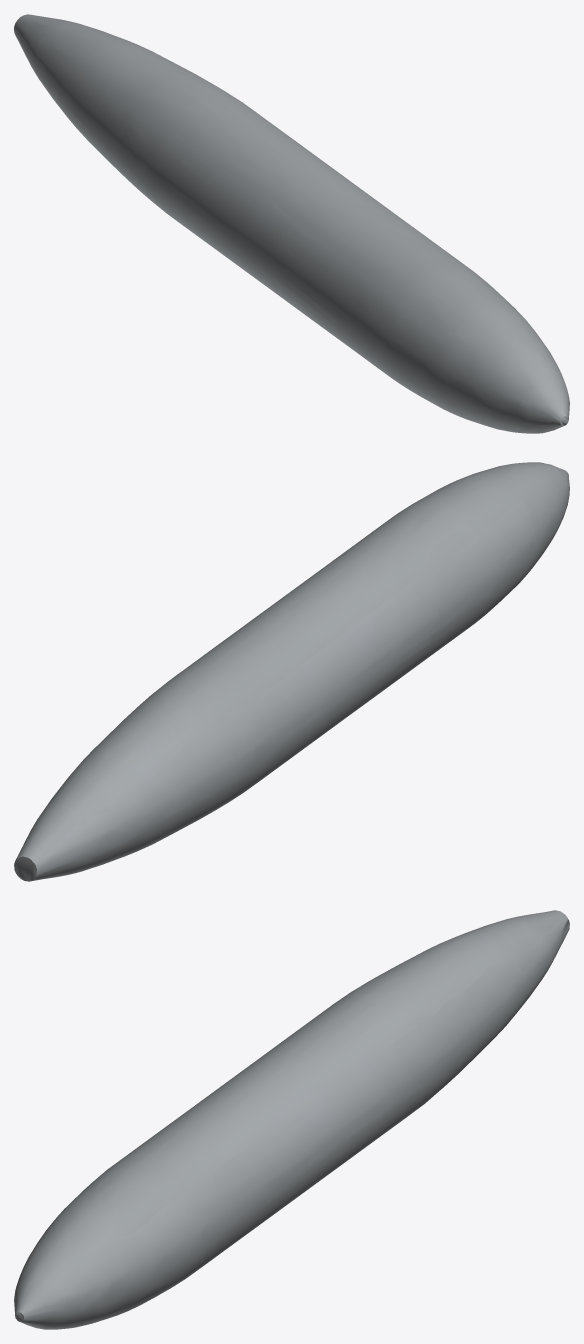
File: rpl751.glb
3 renders of one model, top to bottom at view 1: azimuth 30°, elevation 25°; view 2: azimuth 150°, elevation 25°; view 3: azimuth 330°, elevation 25°, orthographic.
Parts seen in each view (by area): view 1: airframe; view 2: airframe; view 3: airframe.
Part boxes in pixels (bbox=[...]): airframe: bbox=[14, 14, 569, 433]; airframe: bbox=[14, 462, 569, 881]; airframe: bbox=[14, 910, 569, 1329].
Bounding box in the file's own units: 0.7774 × 0.7767 × 6.21.
Materials: 1 (1 with a texture image).
